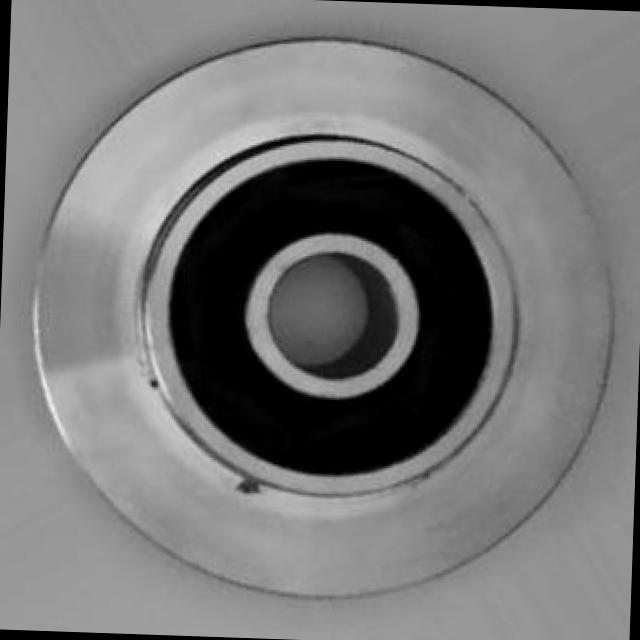Defect: (226, 466, 263, 503)
